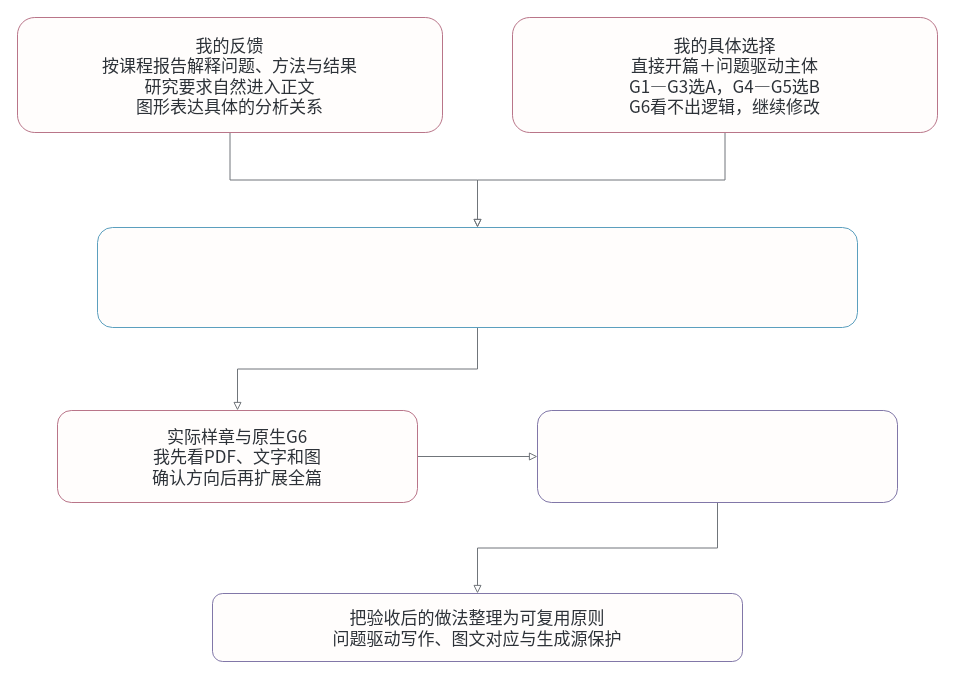
The diagram is 955 pixels wide and 679 high, and some of its shapes have lost their labels. The shapes that lost their labels are listed below. From the top down, each one's centre as x and y in pixels, then its label:
At point (477, 277): "GPT重构文字与图的论证关系 共同参考与候选并列，分层呈现不同检查 把实际核验案例转成清楚的技术说明".
At point (717, 456): "完整25页Experiment Report 技术事实、数据与实验不变 我审阅并明确验收".
